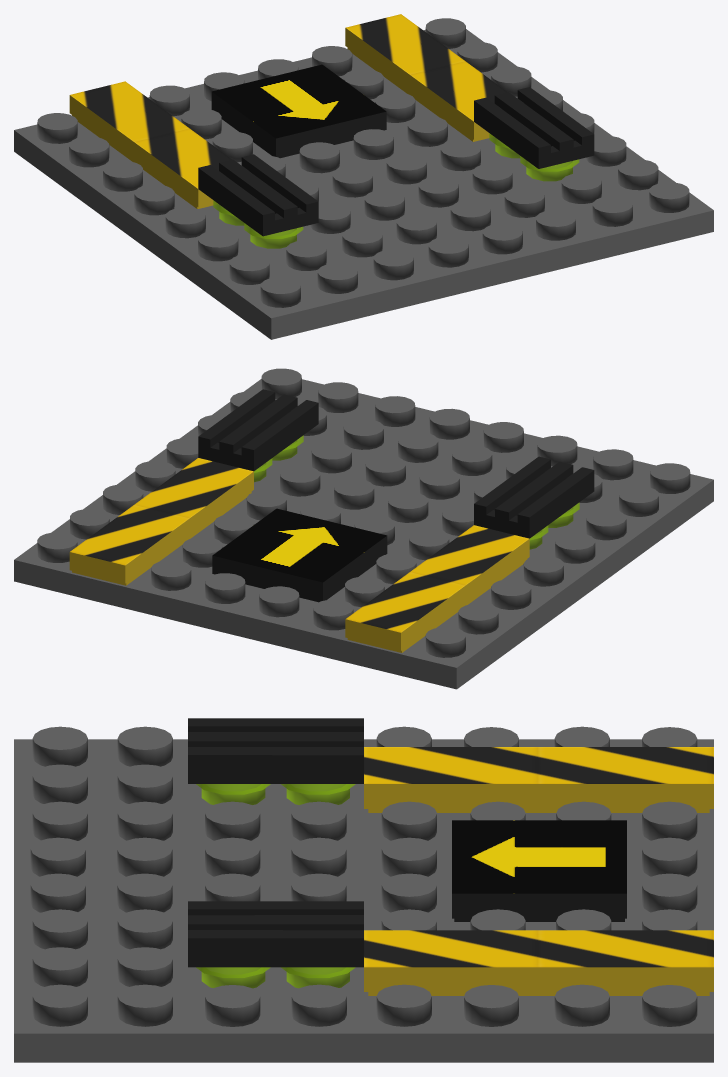
File: Telepad.fbx
The picture shows the model from 3 angles, top to bottom: view 1: azimuth 30°, elevation 25°; view 2: azimuth 150°, elevation 25°; view 3: azimuth 270°, elevation 25°; orthographic projection. The views are drawn at different scales.
Visible parts, largest first — view 1: Base; view 2: Base; view 3: Base.
Boxes of the visible parts, x1,y1,x2,y2 form: Base: (14, 14, 713, 339); Base: (14, 368, 713, 689); Base: (14, 718, 713, 1062).
Size of the model in its own units: 0.5281 by 0.0733 by 0.5314.
